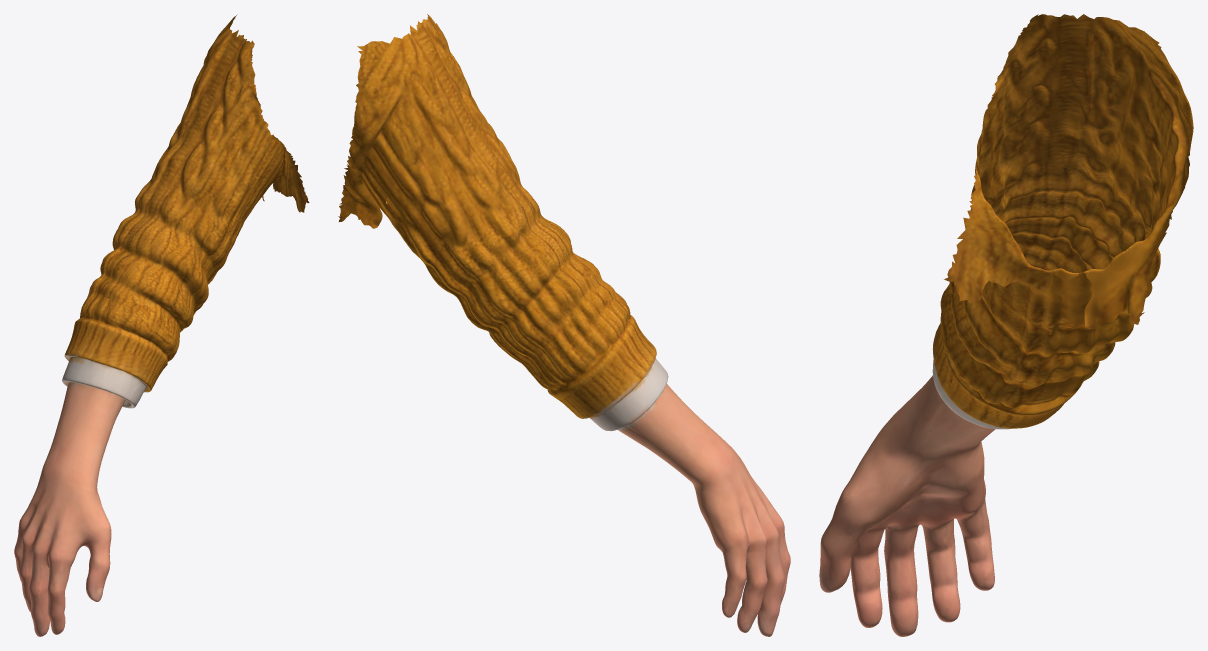
File: AbuelaBrazoIzq.obj
3 renders of one model, left to right at view 1: azimuth 30°, elevation 25°; view 2: azimuth 150°, elevation 25°; view 3: azimuth 270°, elevation 25°, orthographic. The views are drawn at different scales.
Visible parts, largest first — view 1: AbuelaBrazoIzq; view 2: AbuelaBrazoIzq; view 3: AbuelaBrazoIzq.
Boxes of the visible parts, <box> form: AbuelaBrazoIzq: <box>14,14,309,636</box>; AbuelaBrazoIzq: <box>338,14,790,636</box>; AbuelaBrazoIzq: <box>819,14,1193,636</box>.
Size of the model in its own units: 0.337 by 0.5251 by 0.2158.
1 material, 1 textured.
